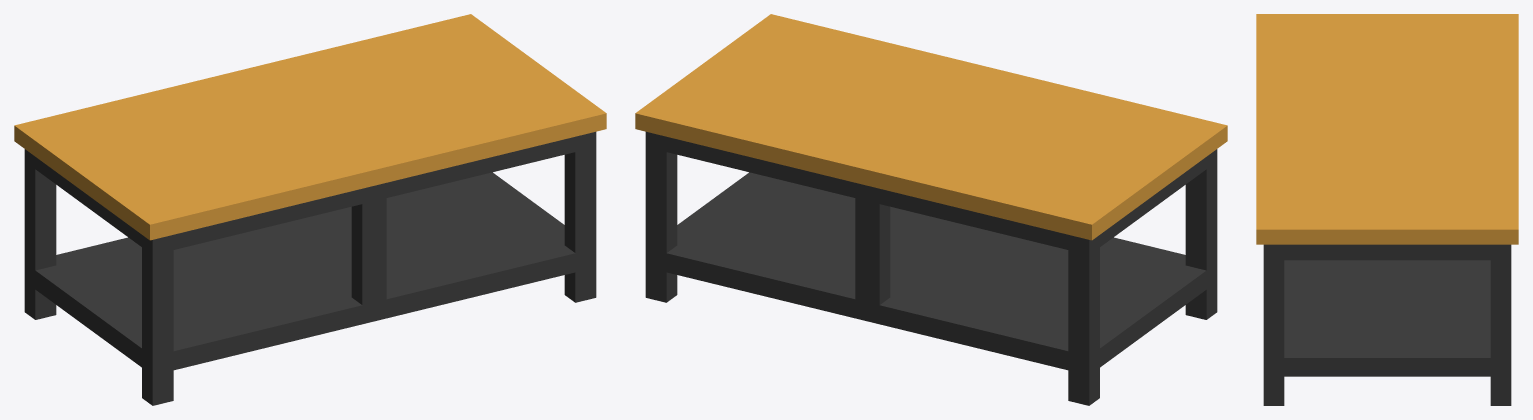
File: SM_DeliveryBench.fbx
3 renders of one model, left to right at view 1: azimuth 30°, elevation 25°; view 2: azimuth 150°, elevation 25°; view 3: azimuth 270°, elevation 25°, orthographic. The views are drawn at different scales.
Parts seen in each view (by area): view 1: SM_DeliveryBench; view 2: SM_DeliveryBench; view 3: SM_DeliveryBench.
Part boxes in pixels (box(x1,y1,x2,y2)): SM_DeliveryBench: box(14, 14, 606, 405); SM_DeliveryBench: box(635, 14, 1227, 405); SM_DeliveryBench: box(1256, 14, 1518, 405).
Size of the model in its own units: 206 by 106 by 80.
